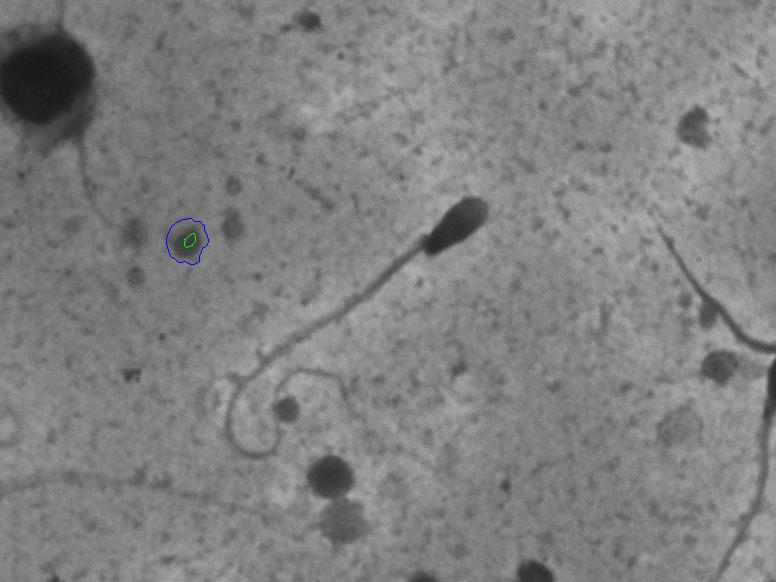Abnormal: (219, 176, 523, 470)
